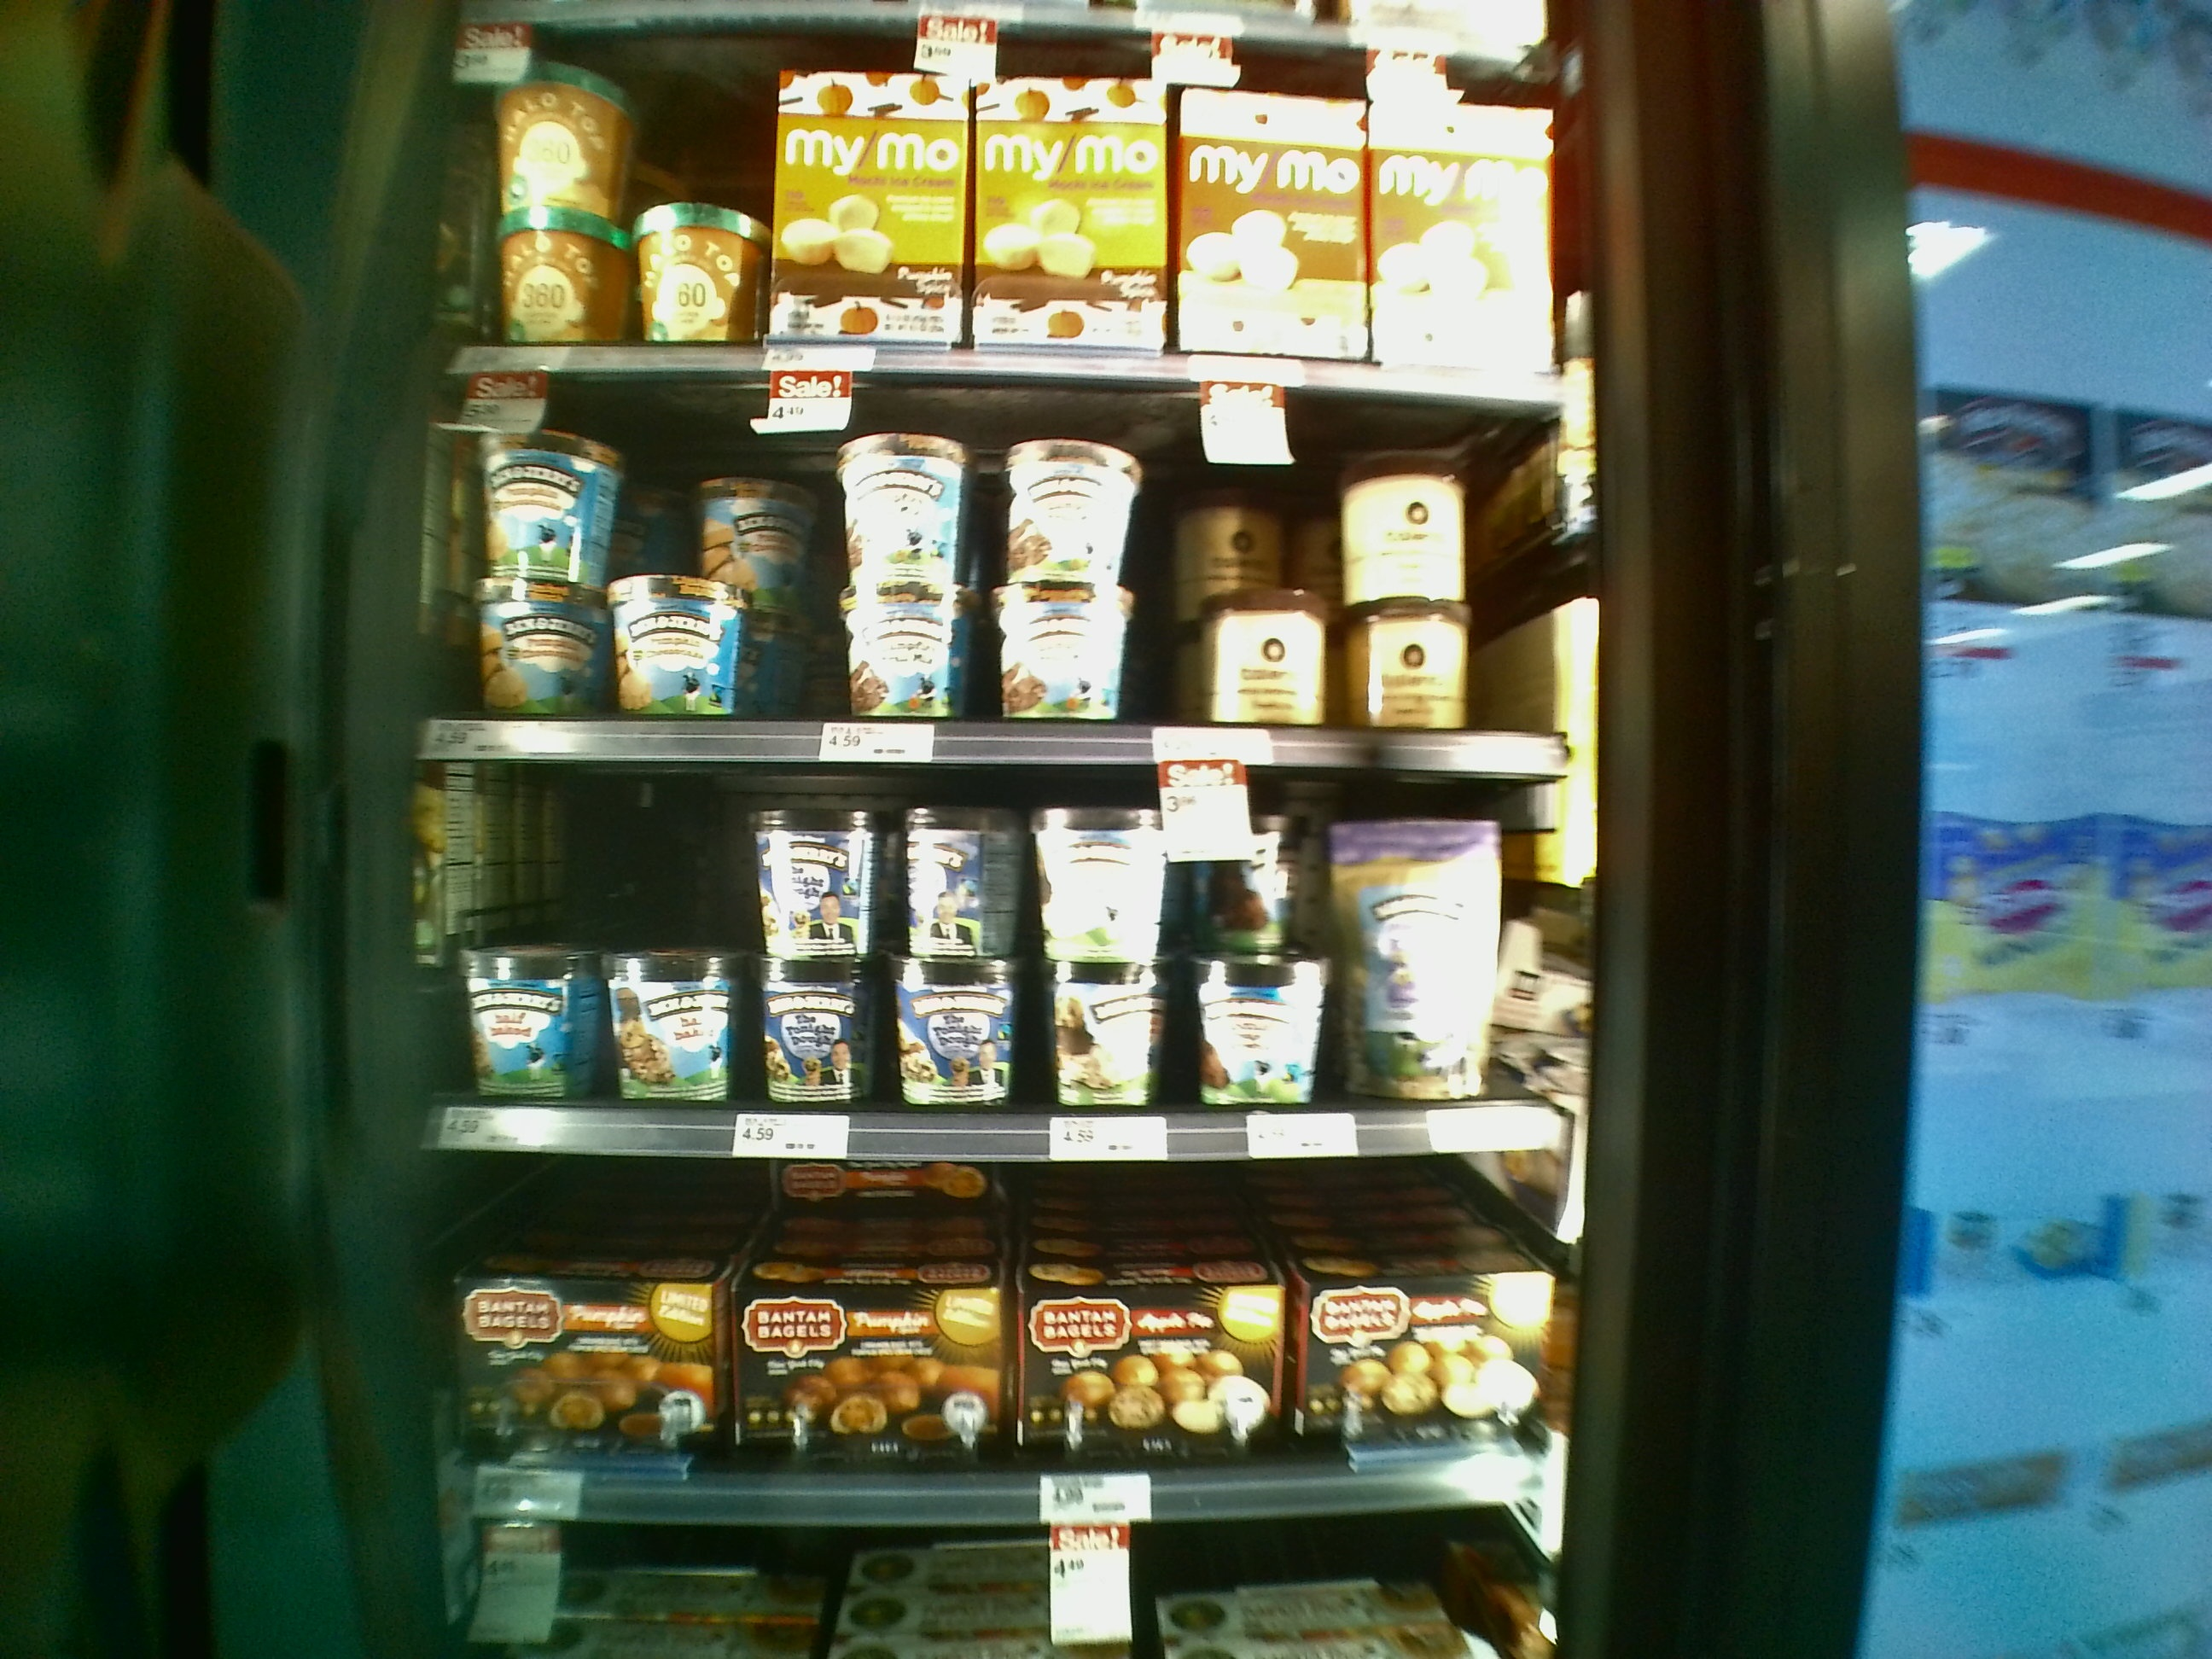shelf: (427, 354, 1592, 775), (408, 1101, 1566, 1516), (413, 748, 1602, 1145)
